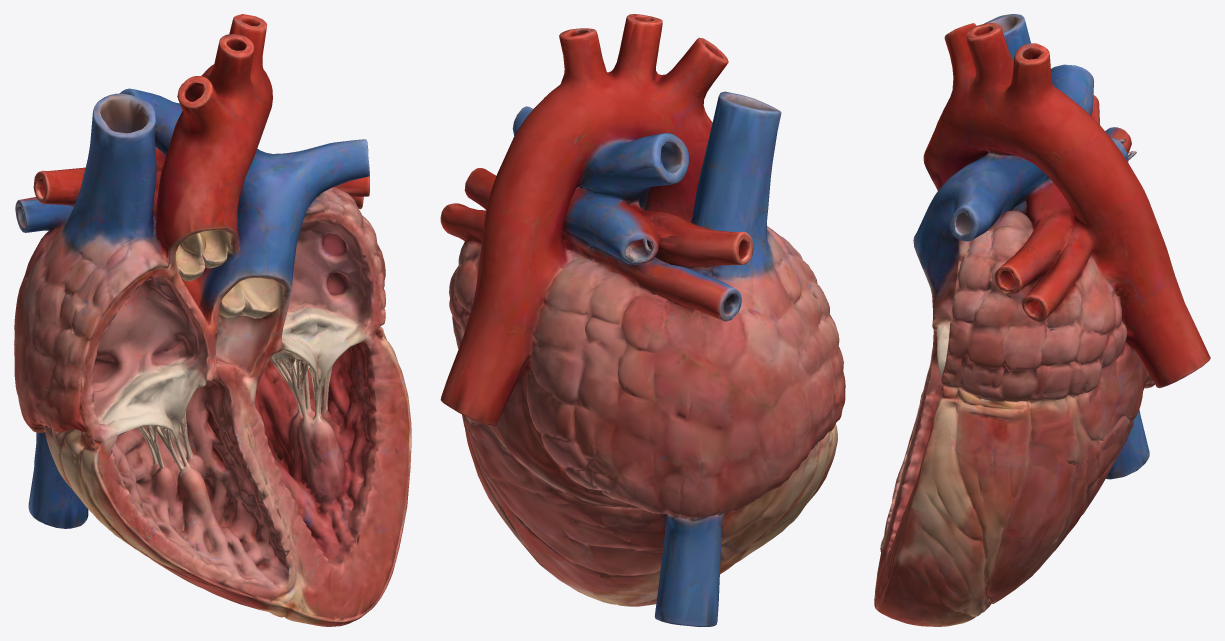
The model's file is g3d-human-heart-cutaway.glb.
3 views of the same model, side by side, from view 1: azimuth 30°, elevation 25°; view 2: azimuth 150°, elevation 25°; view 3: azimuth 270°, elevation 25° (orthographic). The views are drawn at different scales.
Parts seen in each view (by area): view 1: human-heart-cutaway; view 2: human-heart-cutaway; view 3: human-heart-cutaway.
Boxes of the visible parts, <box> form: human-heart-cutaway: <box>14,14,411,626</box>; human-heart-cutaway: <box>440,14,845,626</box>; human-heart-cutaway: <box>874,14,1210,626</box>.
Size of the model in its own units: 0.0827 by 0.1299 by 0.0701.
Materials: 1 (1 with a texture image).
